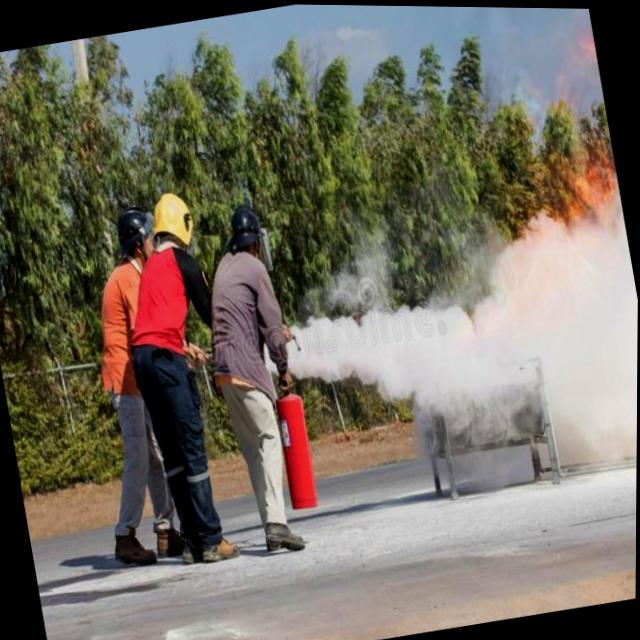FireExtinguisher: (252, 317, 338, 509)
